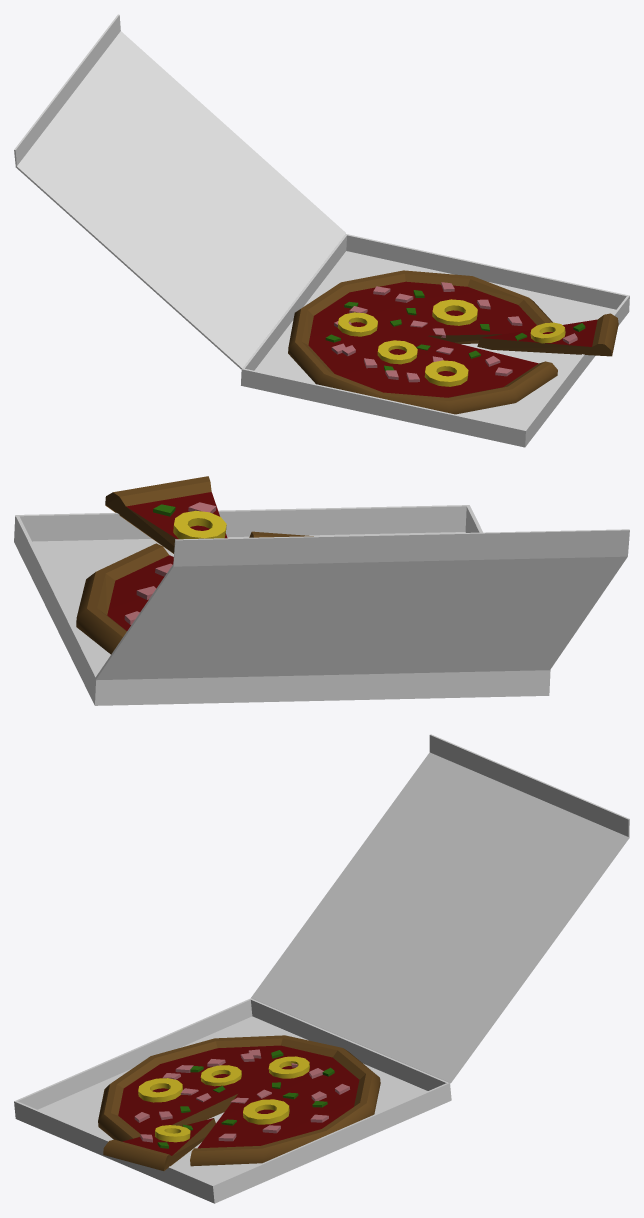
Rendered from pizza_new.FBX.
3 views of the same model, one above another, from view 1: azimuth 30°, elevation 25°; view 2: azimuth 150°, elevation 25°; view 3: azimuth 270°, elevation 25° (orthographic). The views are drawn at different scales.
Visible parts, largest first — view 1: Object003, Cylinder006, Object005; view 2: Object003, Cylinder006, Object005; view 3: Object003, Cylinder006, Object005.
Part boxes in pixels (box(x1,y1,x2,y2)): Object003: box(14, 14, 629, 447); Cylinder006: box(288, 270, 557, 414); Object005: box(477, 313, 618, 356); Object003: box(14, 505, 629, 705); Cylinder006: box(76, 531, 313, 654); Object005: box(105, 476, 227, 553); Object003: box(14, 734, 629, 1203); Cylinder006: box(98, 1035, 380, 1166); Object005: box(103, 1118, 215, 1170).
Size of the model in its own units: 1.04 by 0.4684 by 1.06.
